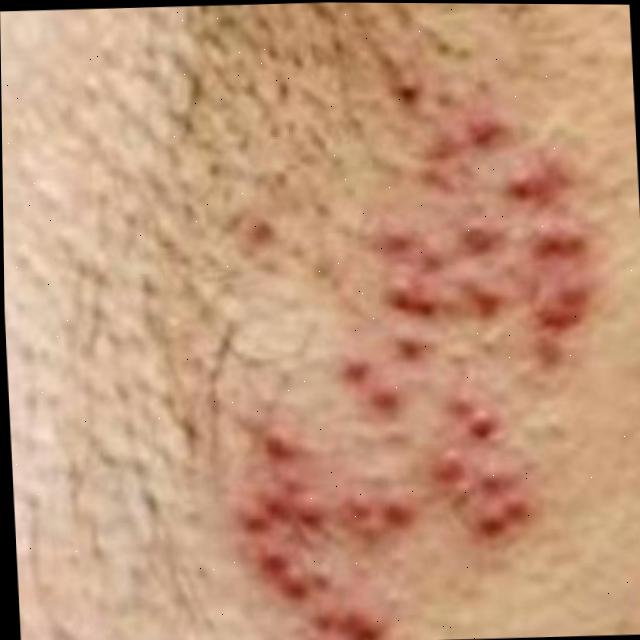Shingles: (220, 74, 609, 640)
